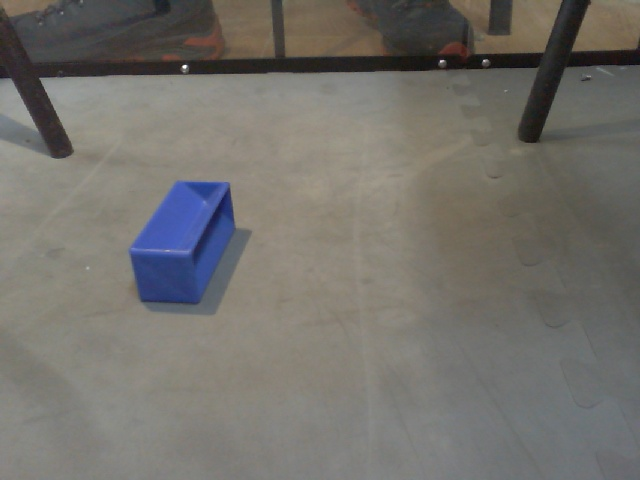BlueSample: (127, 175, 241, 311)
